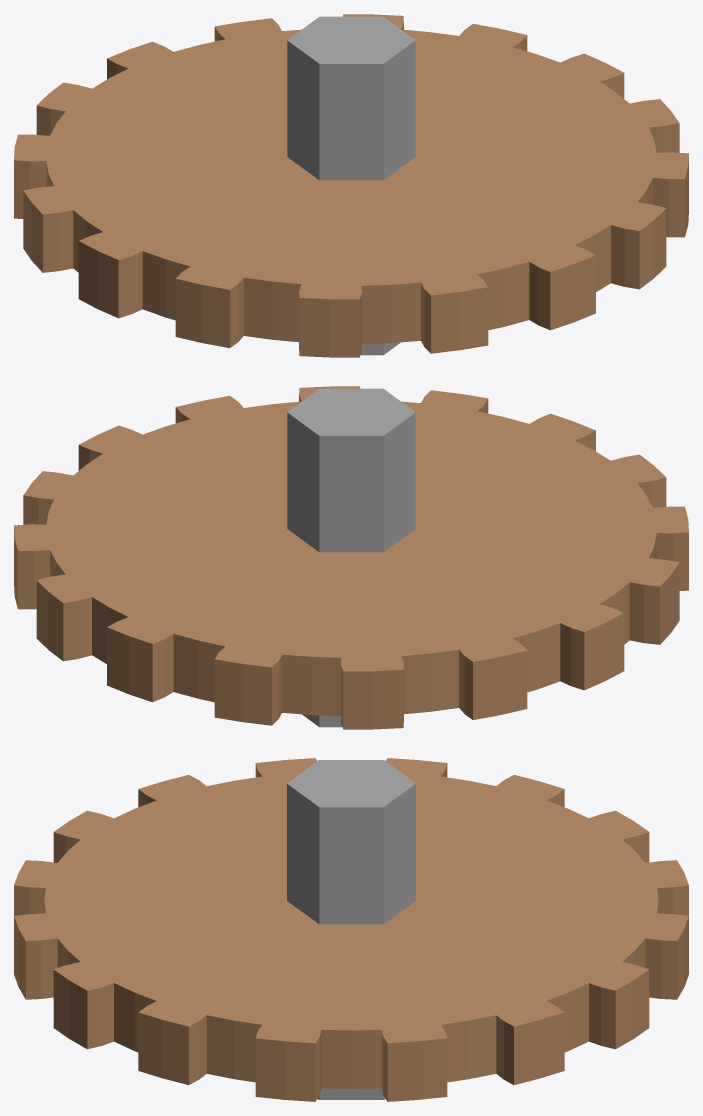
The model's file is cog_big.glb.
3 renders of one model, top to bottom at view 1: azimuth 30°, elevation 25°; view 2: azimuth 150°, elevation 25°; view 3: azimuth 270°, elevation 25°, orthographic.
Parts seen in each view (by area): view 1: Gear_big; view 2: Gear_big; view 3: Gear_big.
Boxes of the visible parts, box(x1,y1,x2,y2) form: Gear_big: box(14, 14, 688, 357); Gear_big: box(14, 386, 688, 729); Gear_big: box(14, 758, 688, 1101).
Size of the model in its own units: 2.09 by 1 by 2.09.
